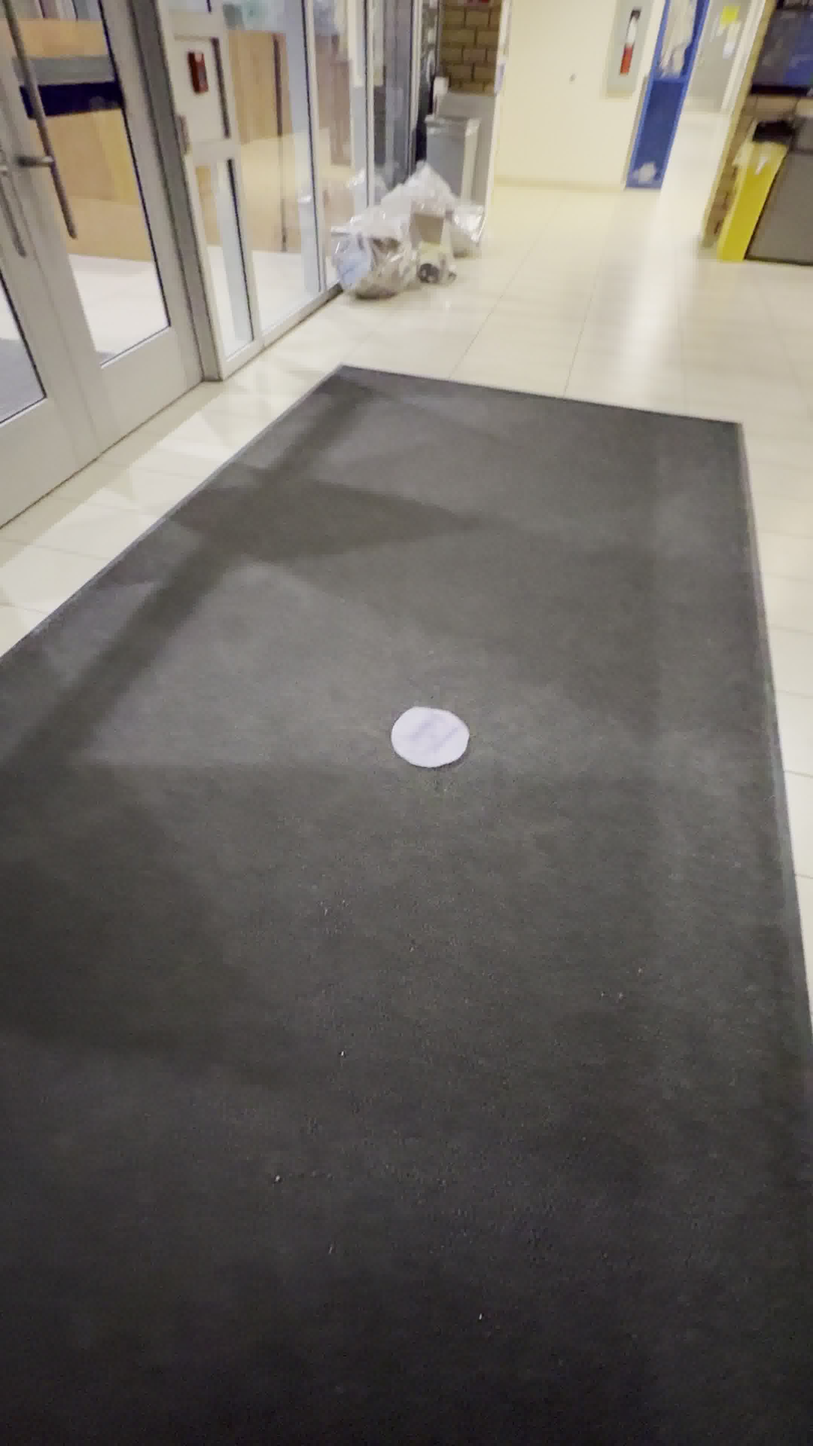Target: (391, 707, 470, 768)
